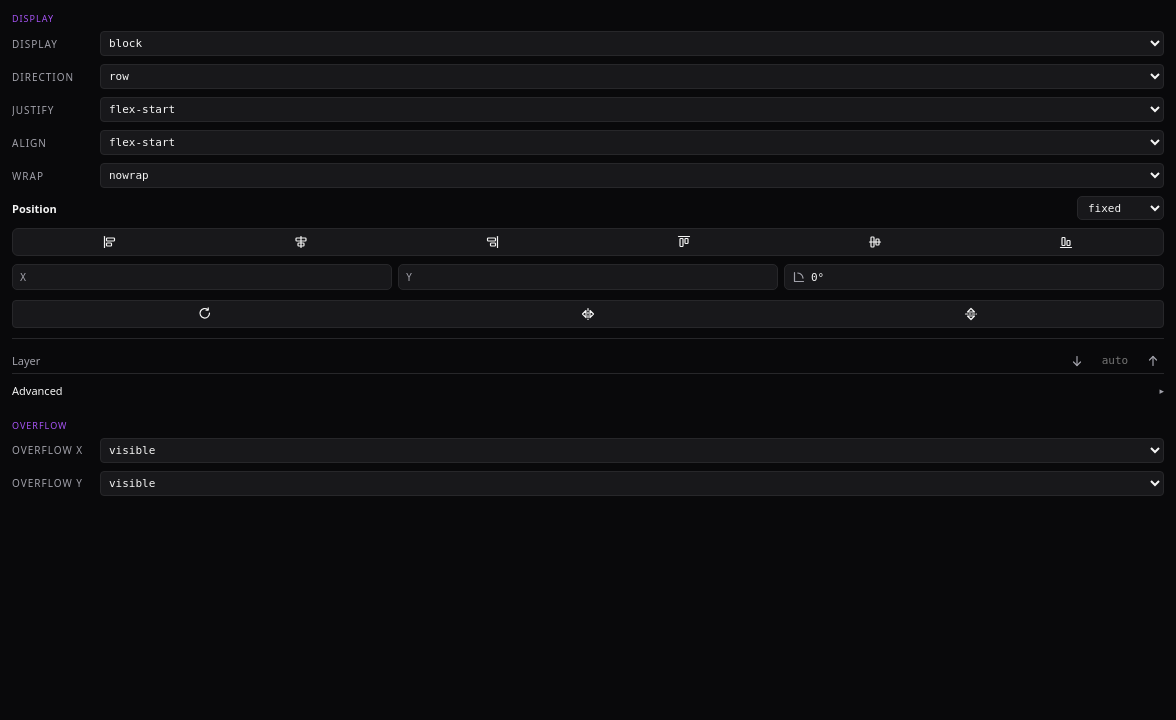
LayoutPanel › routes every position property through the box model, with no duplicate rows
This screenshot has width=1176, height=720.
Click the button "Advanced ▸".
click(37, 390)  # box [12, 374, 1164, 406]
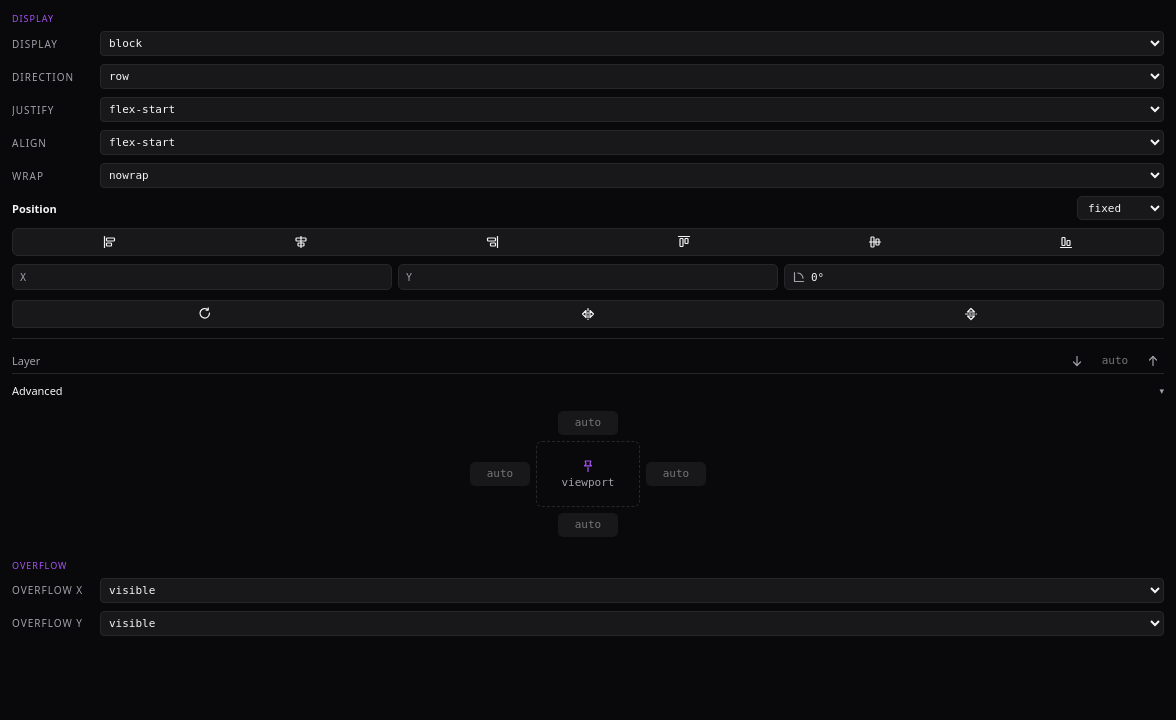
Now the field named "top offset" is shown, box [558, 410, 618, 434]
Now the field named "right offset" is shown, box [646, 462, 706, 486]
Now the field named "bottom offset" is shown, box [558, 512, 618, 536]
